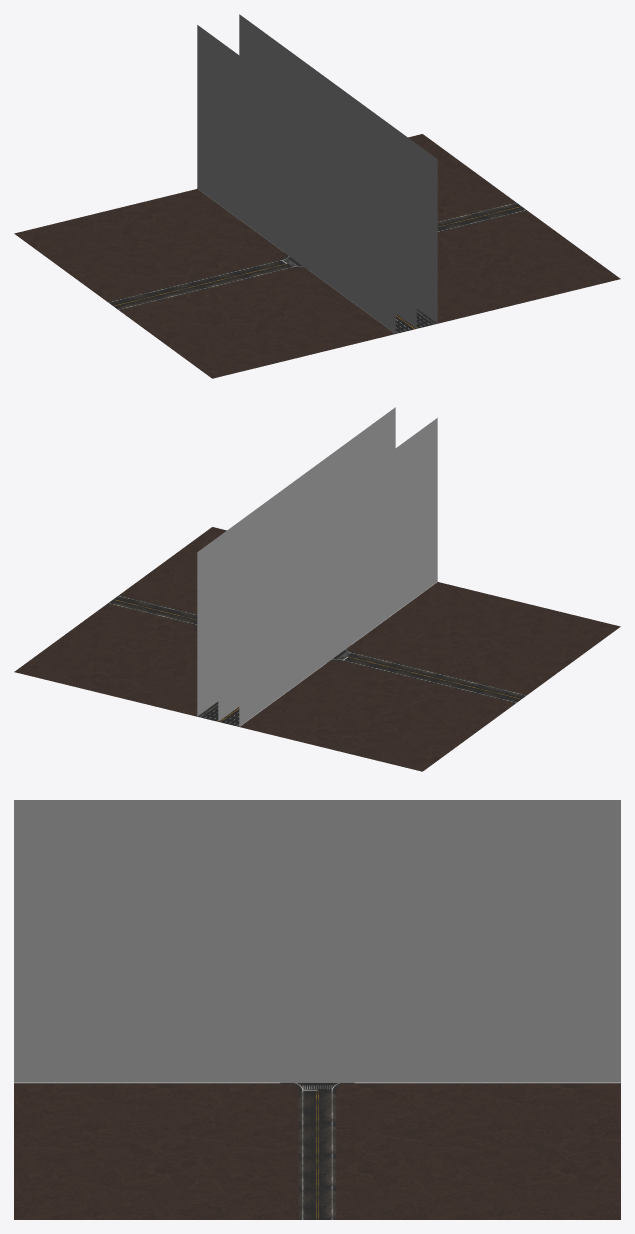
The model's file is Track_B.fbx.
3 views of the same model, one above another, from view 1: azimuth 30°, elevation 25°; view 2: azimuth 150°, elevation 25°; view 3: azimuth 270°, elevation 25° (orthographic). The views are drawn at different scales.
Visible parts, largest first — view 1: Sand_B, InvisibleWall_B, Side_B, AI_mesh_B; view 2: Sand_B, InvisibleWall_B, Side_B, AI_mesh_B; view 3: InvisibleWall_B, Sand_B, Side_B, Guard_B.
Boxes of the visible parts, x1=… form: Sand_B: x1=14, y1=134, x2=620, y2=378; InvisibleWall_B: x1=197, y1=14, x2=437, y2=333; Side_B: x1=107, y1=202, x2=527, y2=310; AI_mesh_B: x1=395, y1=242, x2=416, y2=328; Sand_B: x1=14, y1=527, x2=620, y2=771; InvisibleWall_B: x1=197, y1=407, x2=437, y2=726; Side_B: x1=107, y1=595, x2=527, y2=703; AI_mesh_B: x1=218, y1=635, x2=239, y2=721; InvisibleWall_B: x1=14, y1=800, x2=620, y2=1082; Sand_B: x1=14, y1=1083, x2=620, y2=1219; Side_B: x1=298, y1=1090, x2=336, y2=1219; Guard_B: x1=14, y1=1082, x2=620, y2=1083.
Bounding box in the file's own units: 169 × 64.96 × 142.
